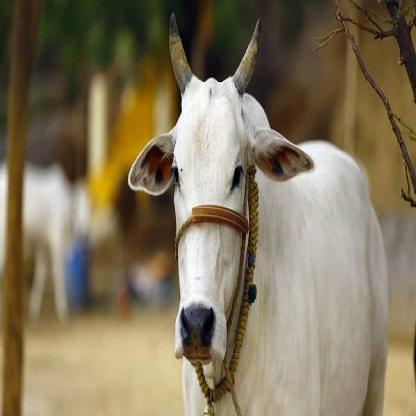cow: (130, 75, 388, 416)
